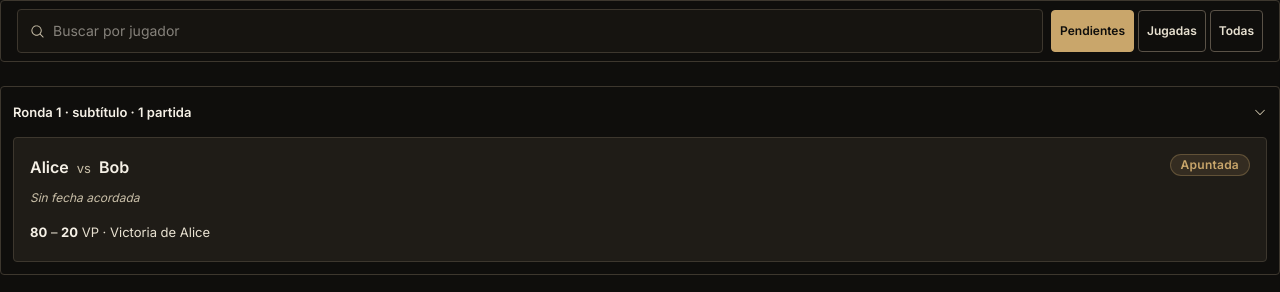
it: CA-17: una partida resuelta mientras se mira no desaparece bajo Pendientes › sigue visible tras la revalidación, y desaparece al reentrar en Pendientes
Expected: the text "Alice" is shown, [30,157,69,177]
Click the button "Jugadas": point(1172, 31) [1138,10,1206,52]
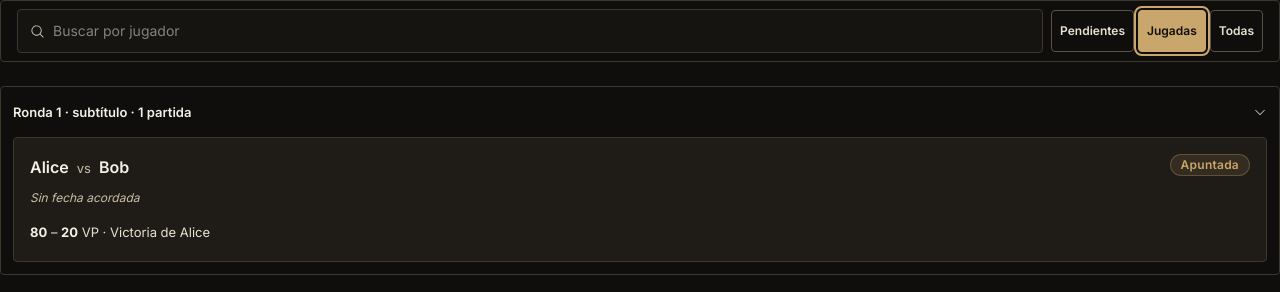
Click the button with test id "status-filter-option-pendientes": point(1093, 31) [1051,10,1134,52]
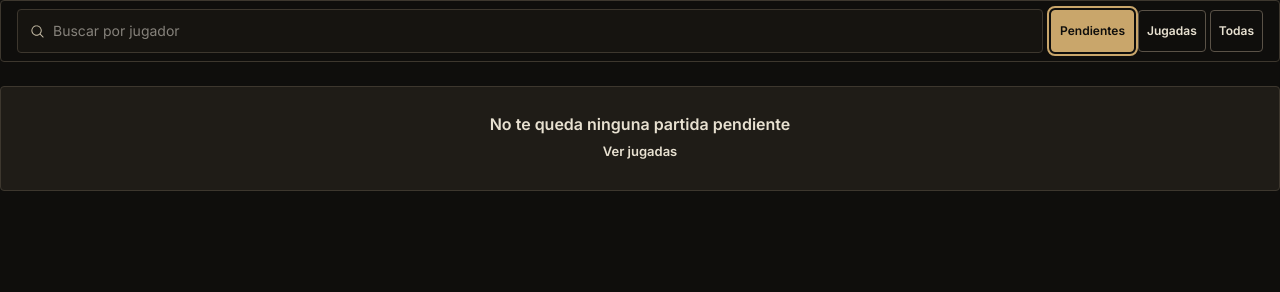
Expected: the text "Alice" is gone
